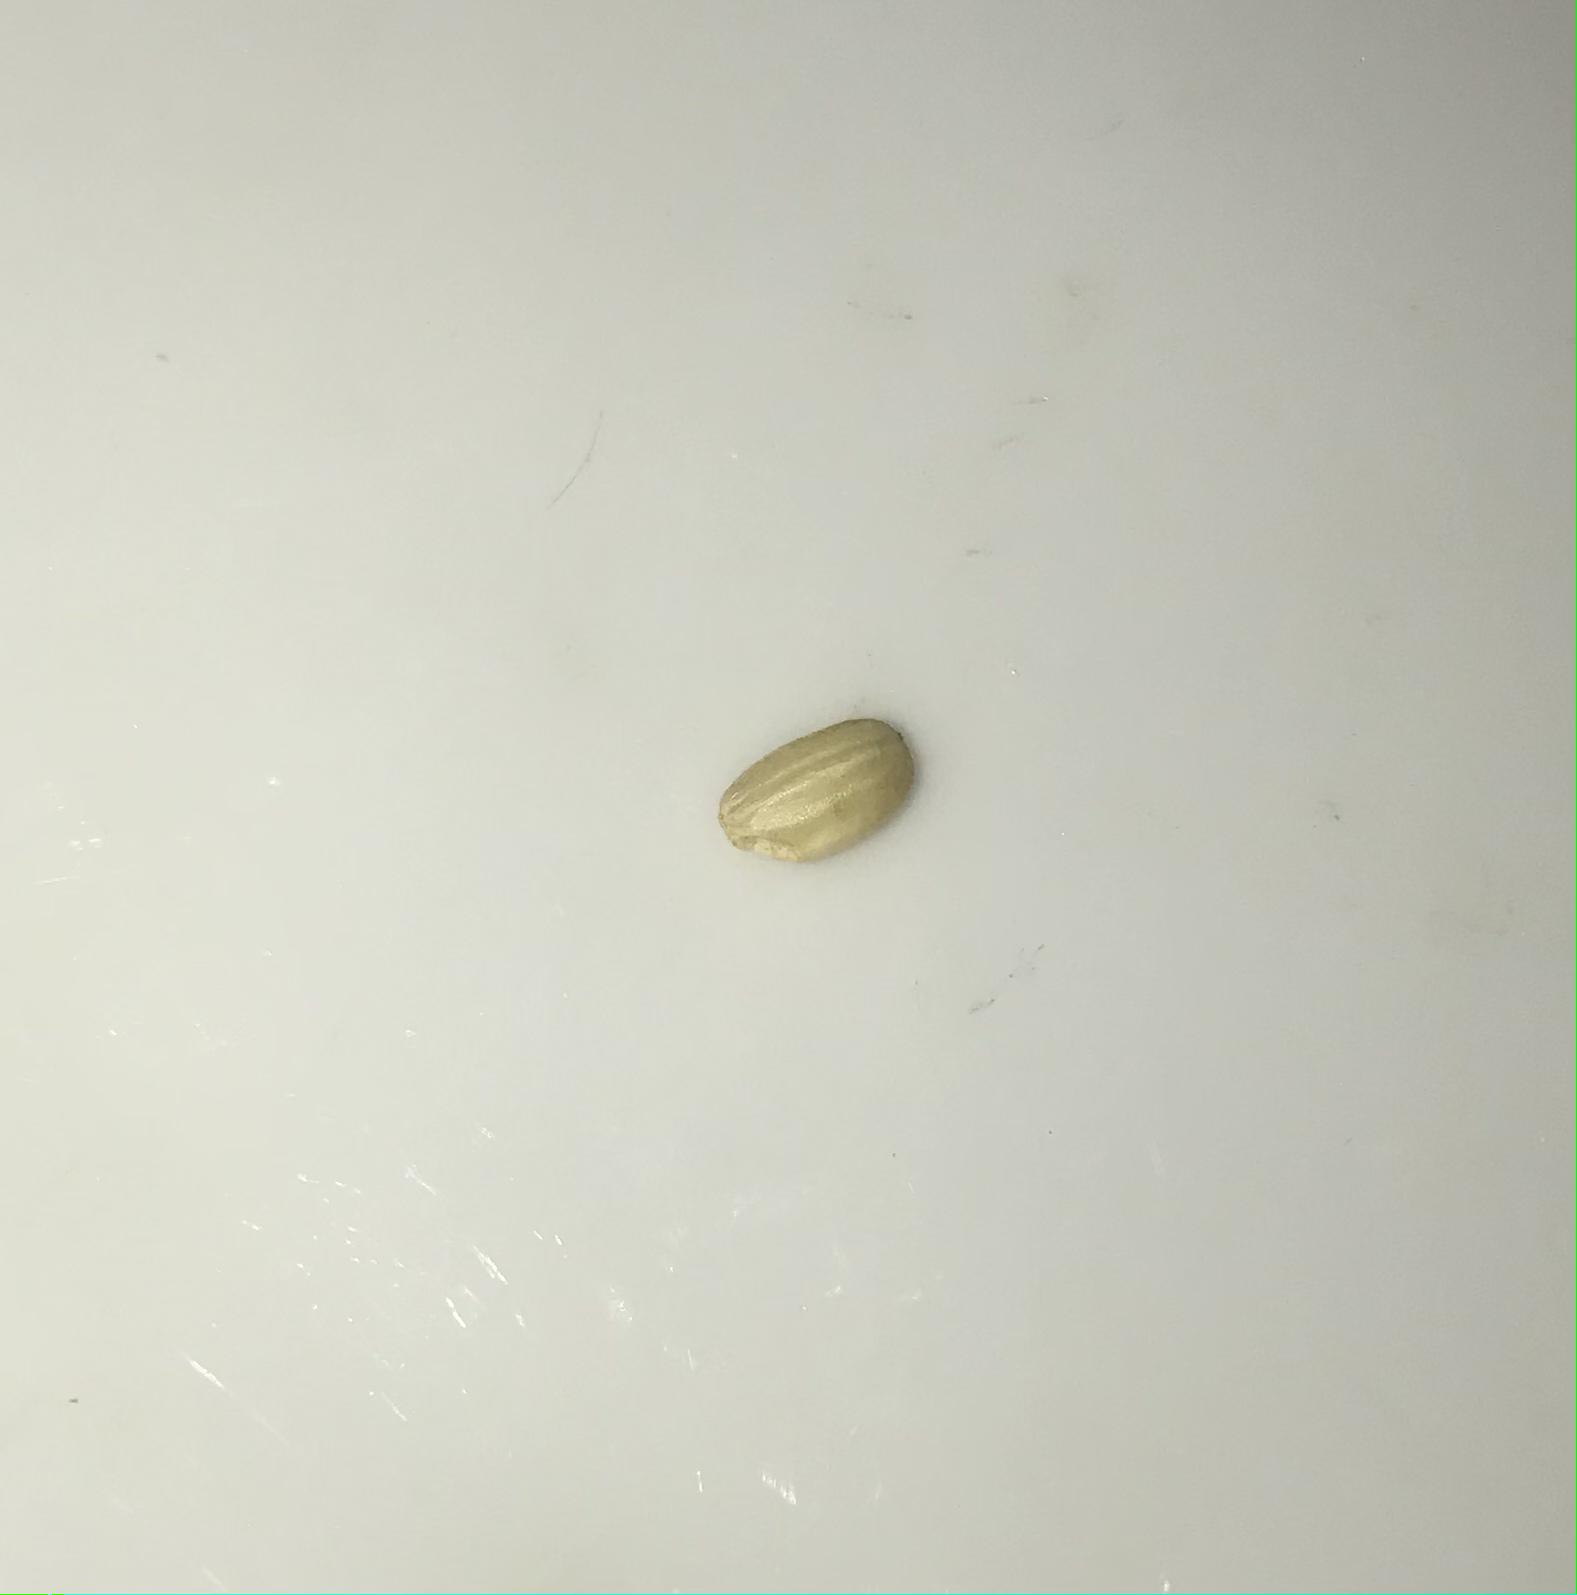Gao Lut Bac: (709, 709, 934, 873)
